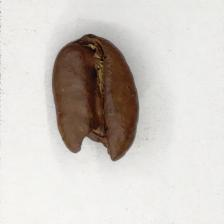NG: (64, 124, 122, 163)
